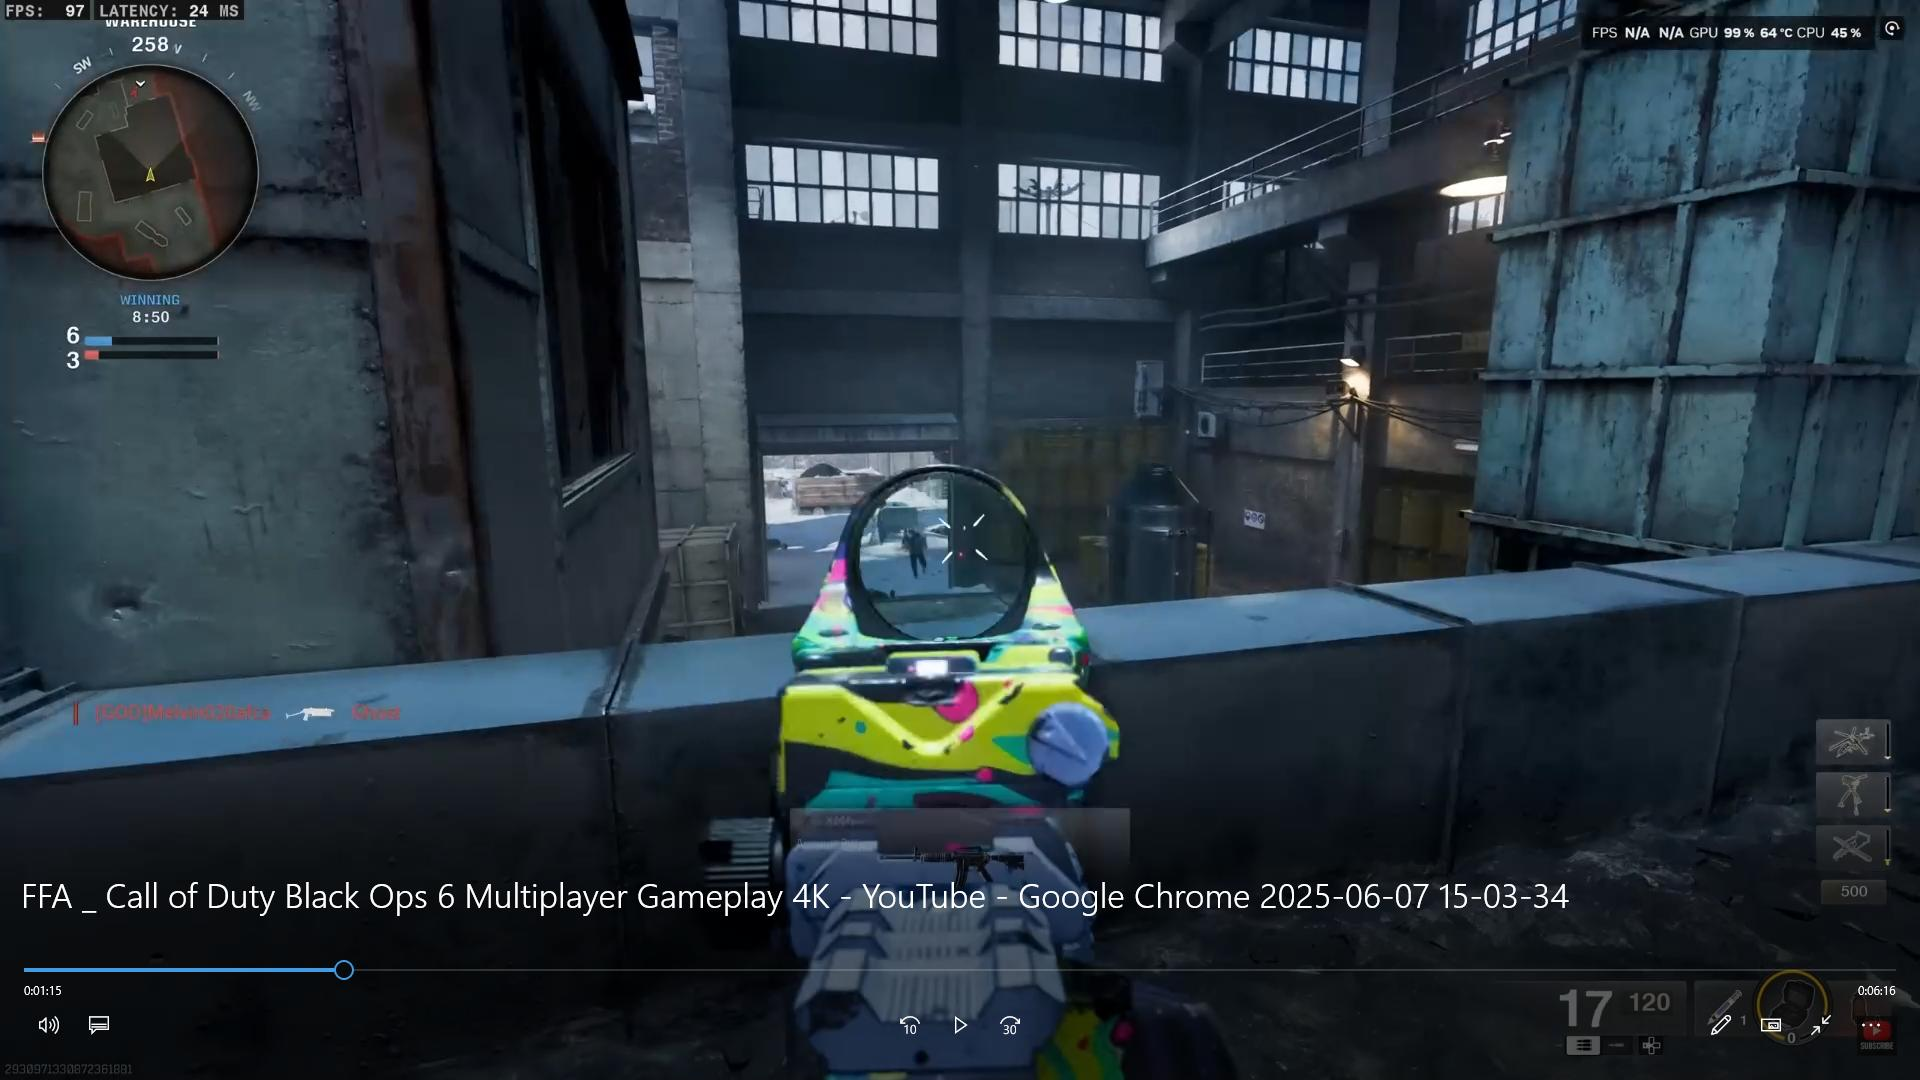Enemy: (897, 521, 938, 588)
